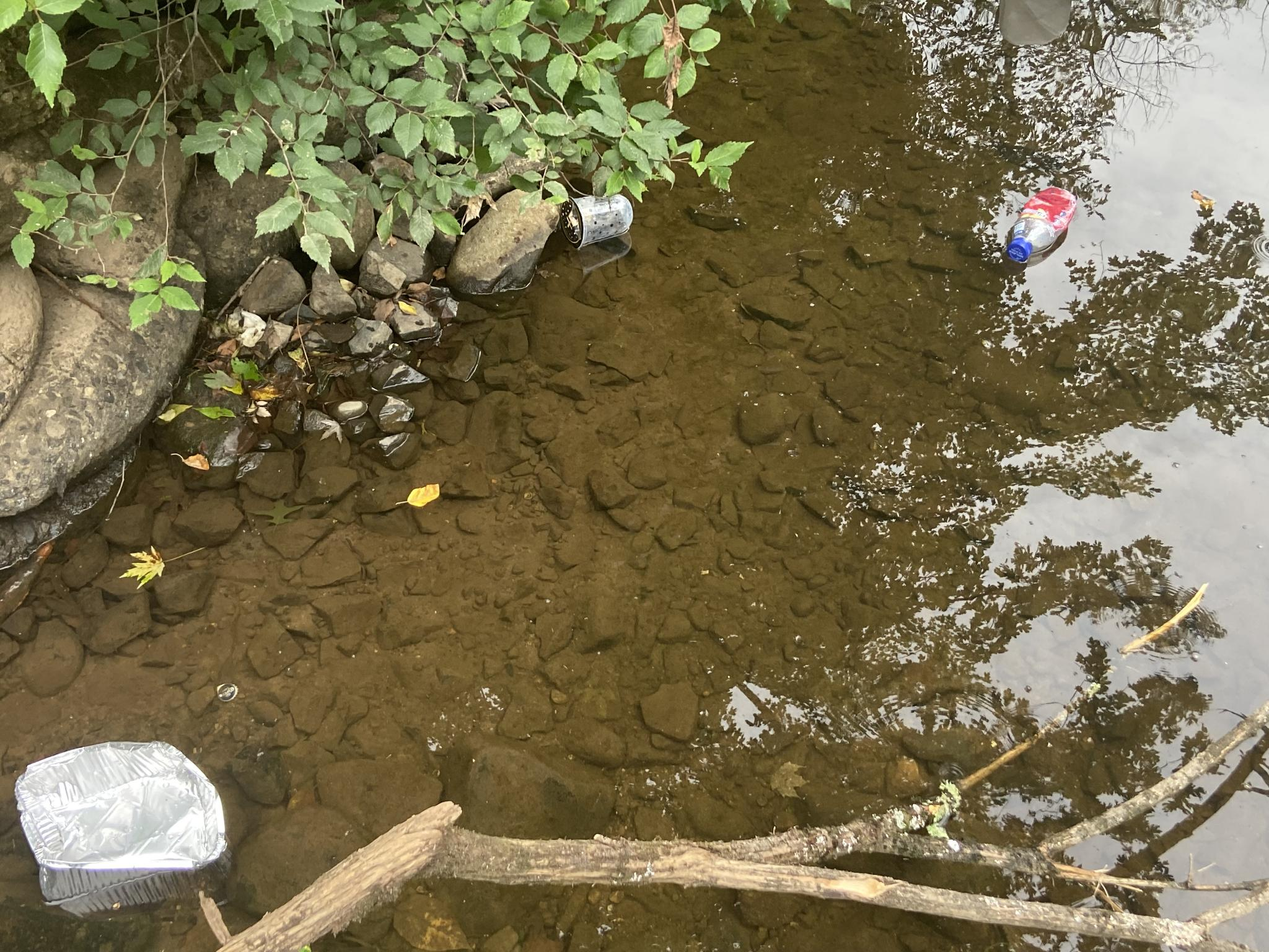metal: (4, 718, 243, 922)
plastic: (992, 176, 1090, 269), (551, 183, 646, 260)
